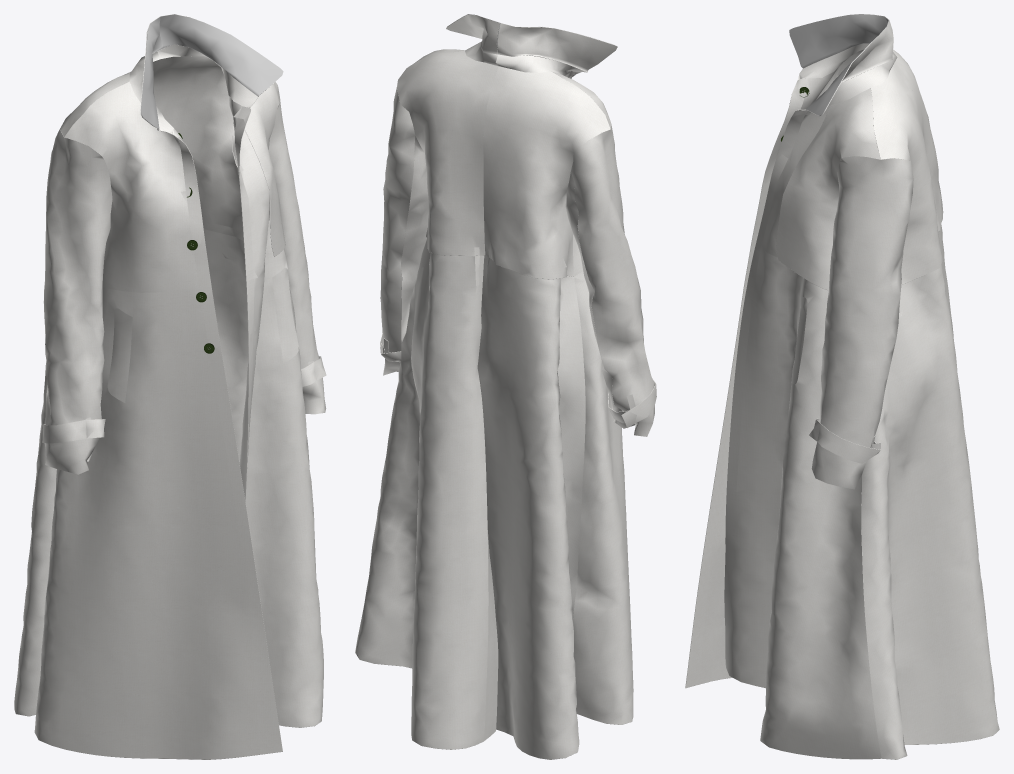
3 views of the same model, side by side, from view 1: azimuth 30°, elevation 25°; view 2: azimuth 150°, elevation 25°; view 3: azimuth 270°, elevation 25° (orthographic). The views are drawn at different scales.
Visible parts, largest first — view 1: Pattern2D_186845, Pattern2D_161825, Sleeves (×2), Pattern2D_152068, Pattern2D_186846, Collar (×2), Pattern2D_2084200, Collar_Stand (×2), Sleeves_Strap, Pattern2D_2141753; view 2: Pattern2D_152068, Pattern2D_186846, Pattern2D_2141753, Sleeves (×2), Pattern2D_186845, Pattern2D_2141752, Collar (×2), Sleeves_Panel (×2), Collar_Stand, Sleeves_Strap; view 3: Pattern2D_161825, Pattern2D_152068, Sleeves, Pattern2D_2084200, Pattern2D_186845, Pattern2D_2141752, Collar (×3), Collar_Stand (×2), Pattern2D_2141753, Sleeves_Strap.
Part boxes in pixels (x1=…): Pattern2D_186845: x1=34, y1=81, x2=282, y2=759; Pattern2D_161825: x1=228, y1=96, x2=323, y2=727; Sleeves (×2): x1=43, y1=86, x2=326, y2=474; Pattern2D_152068: x1=153, y1=55, x2=248, y2=462; Pattern2D_186846: x1=14, y1=59, x2=160, y2=716; Collar (×2): x1=141, y1=14, x2=283, y2=130; Pattern2D_2084200: x1=244, y1=82, x2=285, y2=256; Collar_Stand (×2): x1=129, y1=44, x2=257, y2=135; Sleeves_Strap: x1=42, y1=419, x2=105, y2=443; Pattern2D_2141753: x1=59, y1=71, x2=131, y2=136; Pattern2D_152068: x1=355, y1=143, x2=498, y2=749; Pattern2D_186846: x1=477, y1=255, x2=585, y2=759; Pattern2D_2141753: x1=483, y1=66, x2=610, y2=279; Sleeves (×2): x1=380, y1=87, x2=654, y2=436; Pattern2D_186845: x1=552, y1=71, x2=633, y2=724; Pattern2D_2141752: x1=397, y1=50, x2=498, y2=255; Collar (×2): x1=446, y1=14, x2=617, y2=72; Sleeves_Panel (×2): x1=401, y1=136, x2=635, y2=428; Collar_Stand: x1=496, y1=54, x2=586, y2=75; Sleeves_Strap: x1=608, y1=379, x2=656, y2=427; Pattern2D_161825: x1=724, y1=88, x2=881, y2=759; Pattern2D_152068: x1=861, y1=264, x2=999, y2=759; Sleeves: x1=811, y1=156, x2=913, y2=489; Pattern2D_2084200: x1=776, y1=93, x2=880, y2=290; Pattern2D_186845: x1=685, y1=49, x2=864, y2=688; Pattern2D_2141752: x1=871, y1=66, x2=942, y2=284; Collar (×3): x1=789, y1=14, x2=893, y2=116; Collar_Stand (×2): x1=798, y1=43, x2=897, y2=111; Pattern2D_2141753: x1=893, y1=49, x2=943, y2=231; Sleeves_Strap: x1=809, y1=418, x2=880, y2=463.
Bounding box in the file's own units: 60.09 × 146 × 59.11.
